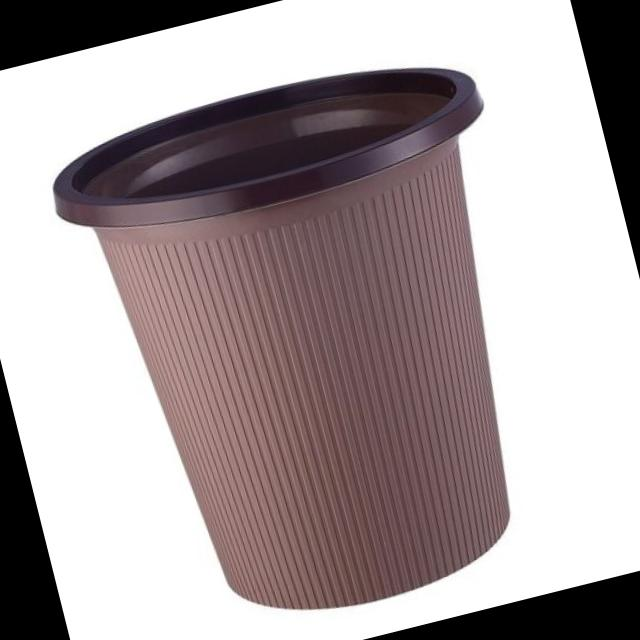dustbin: (32, 29, 599, 640)
